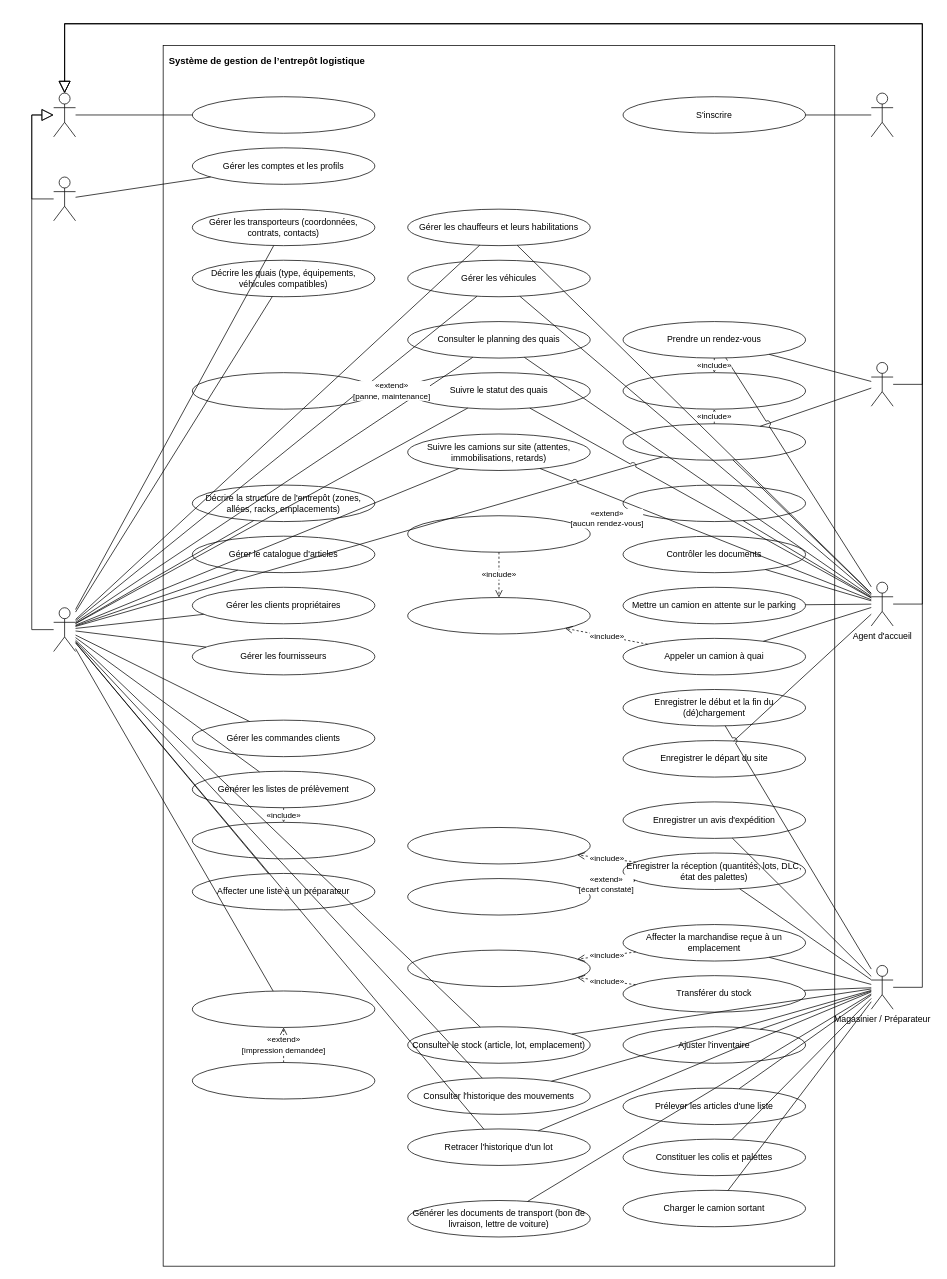
The diagram is 947 pixels wide and 1279 high, and some of its shapes have lost their labels. Each missing label, with the centre of its shape:
"Accueillir un camion sans rendez-vous" goes at (498,533).
"Administrateur" goes at (64,198).
"Affecter un quai libre et compatible" goes at (498,615).
"Appliquer la règle de sortie (FIFO / FEFO)" goes at (283,840).
"Consulter les indicateurs de pilotage" goes at (283,1008).
"Détecter les écarts avec l'avis" goes at (498,845).
"Enregistrer l'arrivée au poste de garde" goes at (714,503).
"Générer un rapport" goes at (283,1080).
"Mettre un quai hors service" goes at (283,390).
"Modifier ou annuler un rendez-vous" goes at (714,441).
"Proposer un emplacement libre adapté" goes at (498,968).
"Responsable d'exploitation" goes at (64,629).
"Se connecter" goes at (283,114).
"Transporteur" goes at (882,384).
"Utilisateur" goes at (64,114).
"Visiteur" goes at (882,114).
"Vérifier le créneau et la compatibilité véhicule / quai" goes at (714,390).
"Émettre une réserve auprès du transporteur" goes at (498,896).
